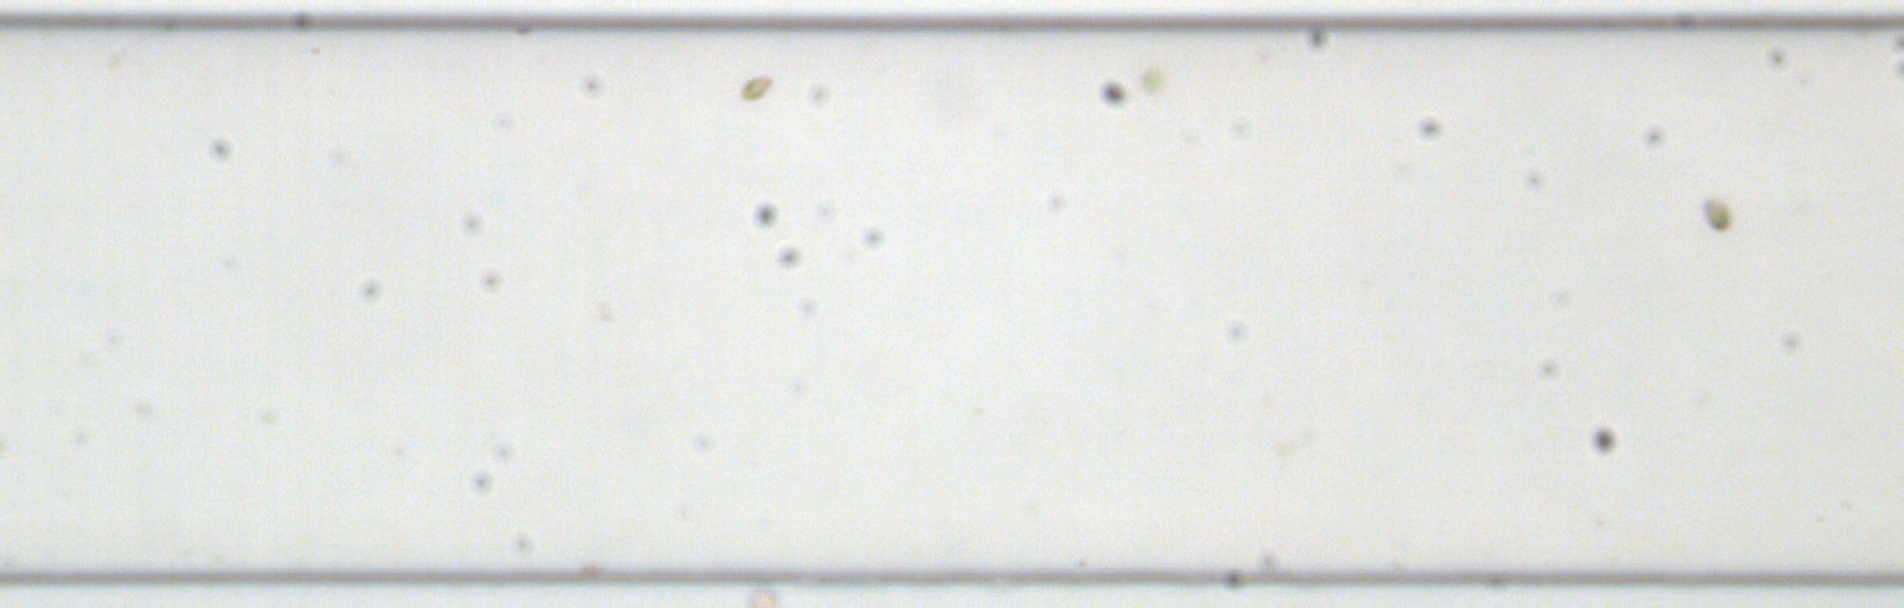Chlorella: (1138, 67, 1161, 93)
Dunaliella salina: (735, 69, 778, 104), (1699, 195, 1732, 234)
